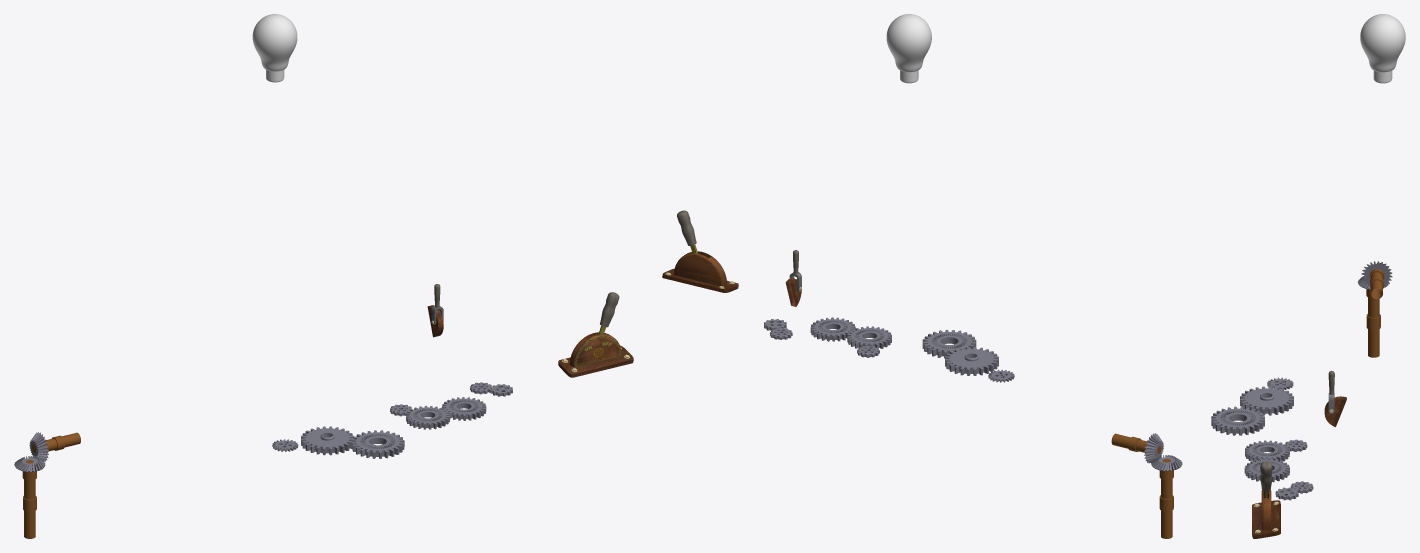
Rendered from gears.glb.
The picture shows the model from 3 angles, left to right: view 1: azimuth 30°, elevation 25°; view 2: azimuth 150°, elevation 25°; view 3: azimuth 270°, elevation 25°; orthographic projection.
Visible parts, largest first — view 1: bulb, lever-case, Gear.012, Gear.017, gear-pipe, Gear.006, Gear.010; view 2: bulb, lever-case, Gear.012, Gear.017, gear-pipe, Gear.010, Gear.006; view 3: bulb, Gear.017, Gear.012, lever-case, gear-pipe, Gear.006, Gear.010, dropper-bot, Gear.016, gear-pipe.001, lever, dropper-top (+2 smaller).
Boxes of the visible parts, x1,y1,x2,y2 form: bulb: [252, 14, 297, 82]; lever-case: [558, 332, 633, 377]; Gear.012: [301, 426, 354, 455]; Gear.017: [351, 430, 404, 458]; gear-pipe: [22, 460, 36, 538]; Gear.006: [406, 405, 450, 429]; Gear.010: [442, 397, 486, 420]; bulb: [886, 14, 931, 83]; lever-case: [662, 251, 738, 292]; Gear.012: [945, 347, 998, 375]; Gear.017: [922, 329, 976, 358]; gear-pipe: [1159, 459, 1173, 538]; Gear.010: [810, 317, 855, 341]; Gear.006: [847, 326, 891, 348]; bulb: [1360, 14, 1405, 83]; Gear.017: [1211, 406, 1264, 435]; Gear.012: [1240, 386, 1293, 415]; lever-case: [1252, 490, 1280, 538]; gear-pipe: [1366, 289, 1380, 357]; Gear.006: [1245, 440, 1289, 461]; Gear.010: [1244, 458, 1289, 482]; dropper-bot: [1324, 396, 1346, 427]; Gear.016: [1361, 261, 1392, 286]; gear-pipe.001: [1369, 269, 1384, 299]; lever: [1260, 461, 1272, 498]; dropper-top: [1328, 370, 1334, 413].
Bounding box in the file's own units: 2.4 × 1.87 × 0.7121.
7 materials, 3 textured.
